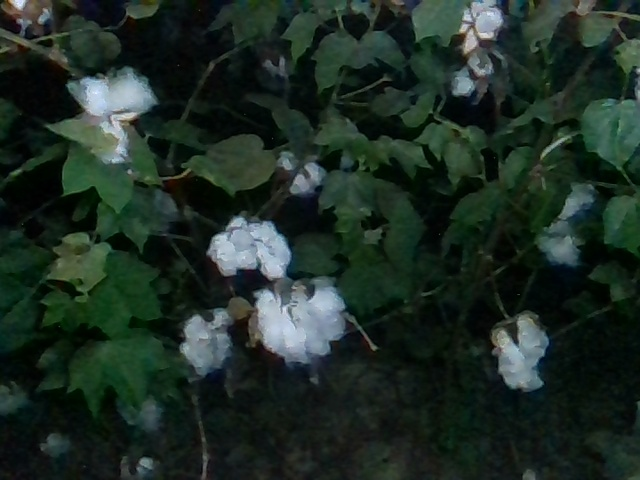cotton: (58, 66, 154, 170), (248, 274, 352, 367), (528, 173, 599, 274), (202, 210, 298, 282), (485, 305, 551, 394), (173, 302, 236, 375), (442, 2, 507, 53), (276, 146, 327, 202)
